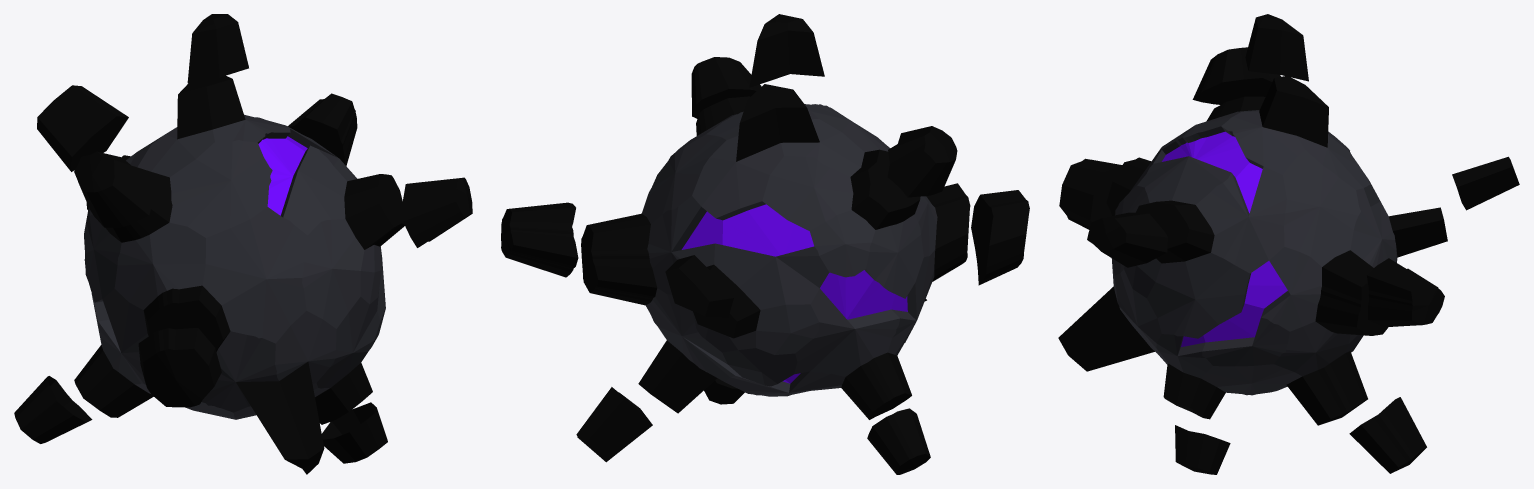
Rendered from Planet2Dest4.glb.
3 renders of one model, left to right at view 1: azimuth 30°, elevation 25°; view 2: azimuth 150°, elevation 25°; view 3: azimuth 270°, elevation 25°, orthographic. The views are drawn at different scales.
Parts seen in each view (by area): view 1: Icosphere.035; view 2: Icosphere.035; view 3: Icosphere.035.
Boxes of the visible parts, bbox=[...] form: Icosphere.035: bbox=[14, 14, 472, 474]; Icosphere.035: bbox=[501, 14, 1029, 474]; Icosphere.035: bbox=[1058, 14, 1519, 474].
Size of the model in its own units: 2.47 by 2.67 by 2.72.
